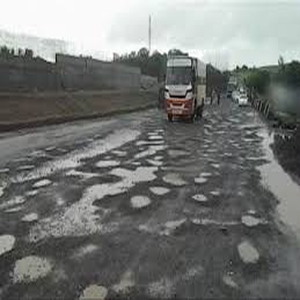pothole: (22, 128, 141, 181), (10, 249, 58, 284), (108, 166, 159, 185), (237, 238, 260, 265), (80, 283, 108, 300), (148, 183, 175, 197), (241, 213, 262, 228), (128, 194, 151, 207), (32, 178, 53, 186)
